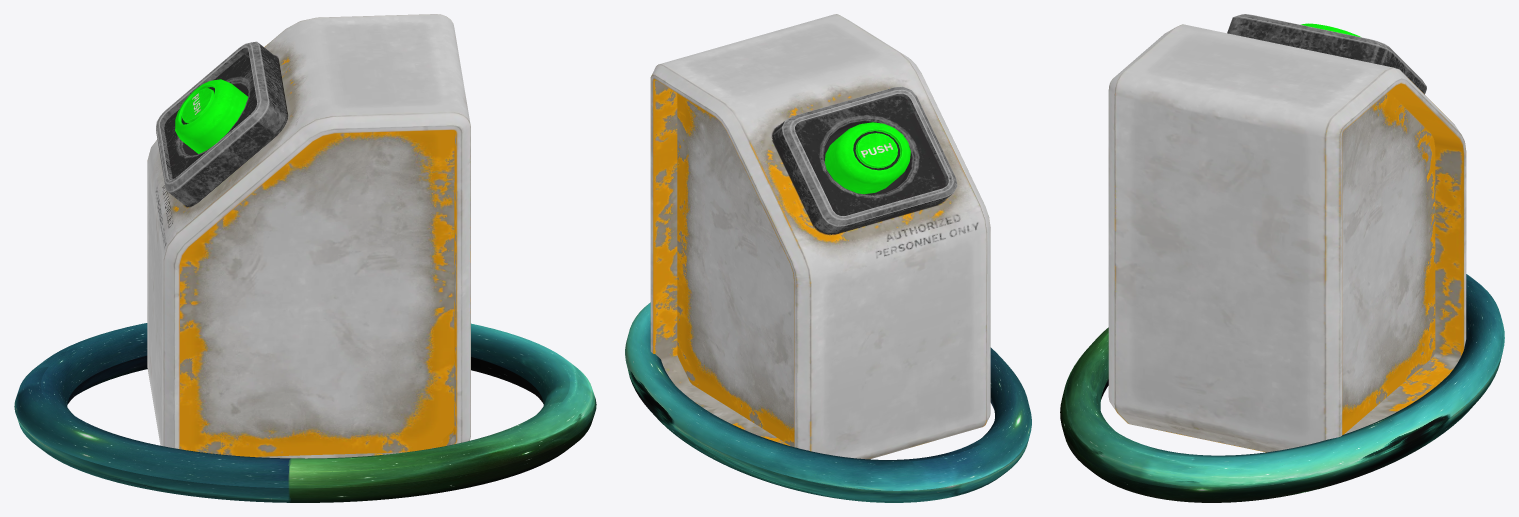
Rendered from button2.glb.
The picture shows the model from 3 angles, left to right: view 1: azimuth 30°, elevation 25°; view 2: azimuth 150°, elevation 25°; view 3: azimuth 270°, elevation 25°; orthographic projection. The views are drawn at different scales.
Visible parts, largest first — view 1: Object_9.301, Torus.017; view 2: Object_9.301, Torus.017; view 3: Object_9.301, Torus.017.
Part boxes in pixels (bbox=[...]): Object_9.301: bbox=[147, 14, 470, 458]; Torus.017: bbox=[14, 323, 596, 502]; Object_9.301: bbox=[650, 14, 990, 459]; Torus.017: bbox=[625, 302, 1031, 502]; Object_9.301: bbox=[1108, 14, 1466, 452]; Torus.017: bbox=[1060, 274, 1504, 502].
Size of the model in its own units: 2.3 by 1.68 by 1.89.
2 materials, 2 textured.
